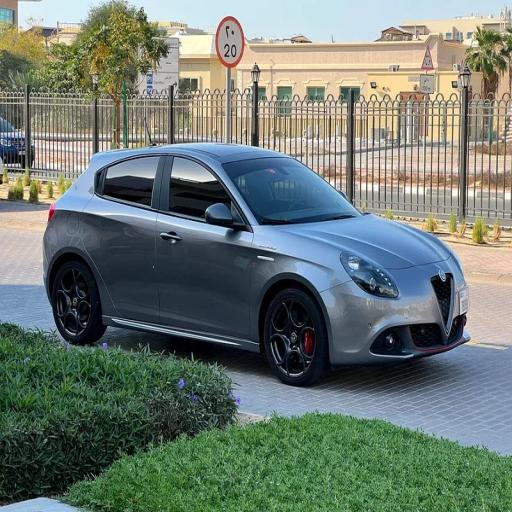license-plates: (459, 287, 470, 316)
